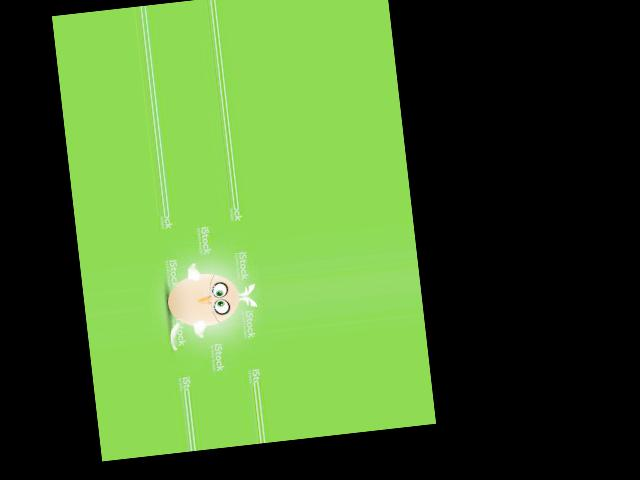egg: (164, 271, 241, 330)
